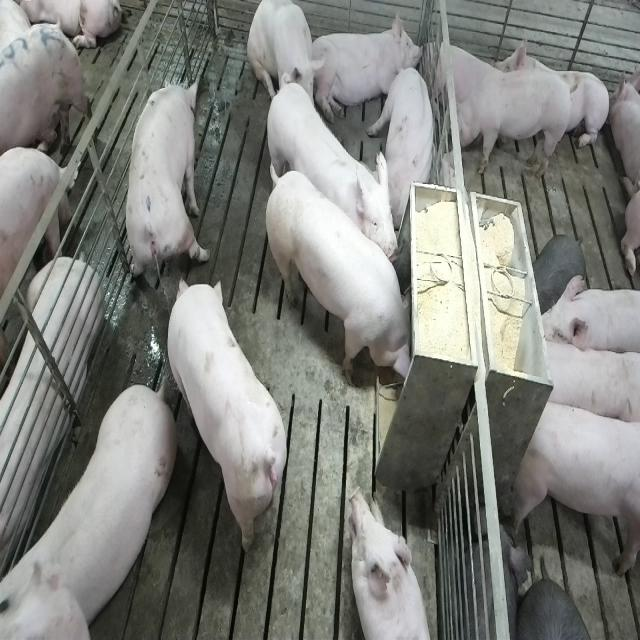Feeding: (269, 164, 422, 389)
Sitting: (373, 64, 437, 222), (247, 1, 323, 130)
Standing: (5, 375, 181, 632), (170, 276, 293, 558), (262, 76, 398, 267), (510, 394, 638, 580), (124, 74, 208, 296), (447, 68, 578, 178), (0, 22, 90, 175), (539, 331, 639, 428), (538, 276, 640, 360)
Sternal_lying: (496, 30, 608, 156), (348, 485, 434, 640), (313, 12, 423, 130), (428, 36, 501, 120)
